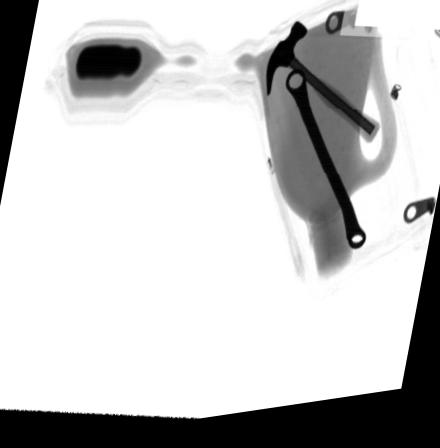Hammer: (265, 28, 380, 155)
Wrench: (285, 74, 367, 262)
